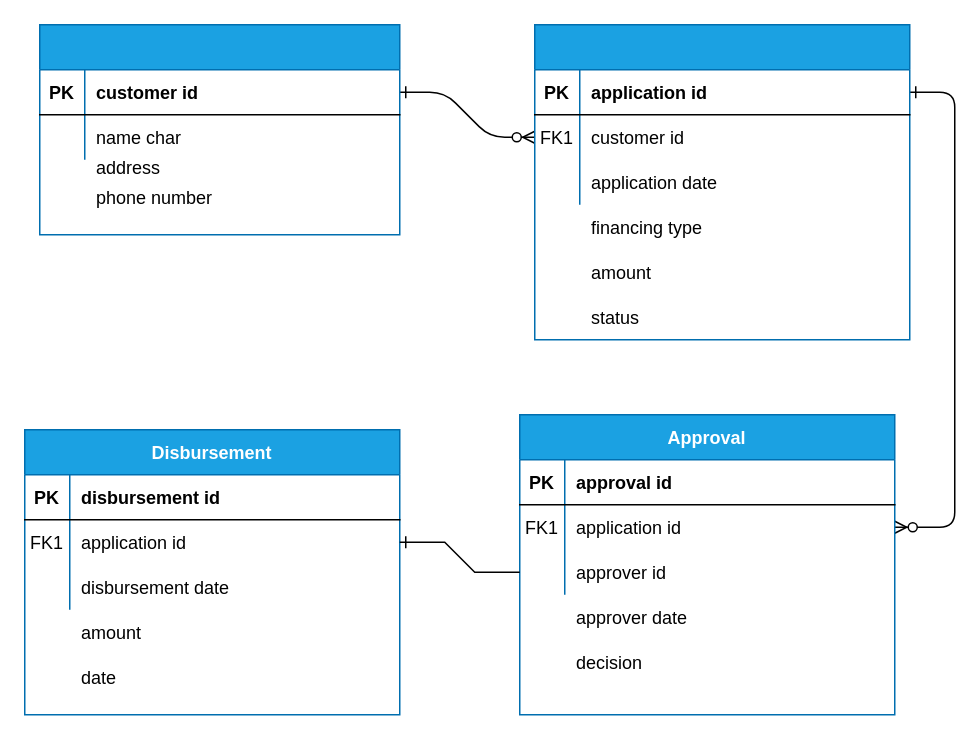
Some shapes in this 980 by 740 pixel diagram are drawn without their labels. The shapes that lost their labels are listed below. From the top down, each one's box as (x1, y1, x2, y2) in pixels, then its label:
(38, 23, 400, 235): Customers
(533, 23, 910, 340): Financing App
